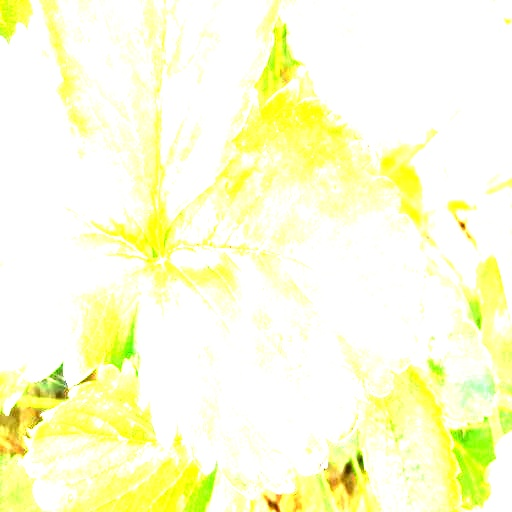Leaf Spot: (131, 78, 430, 501), (29, 0, 282, 258), (280, 0, 491, 150), (19, 356, 218, 511)
